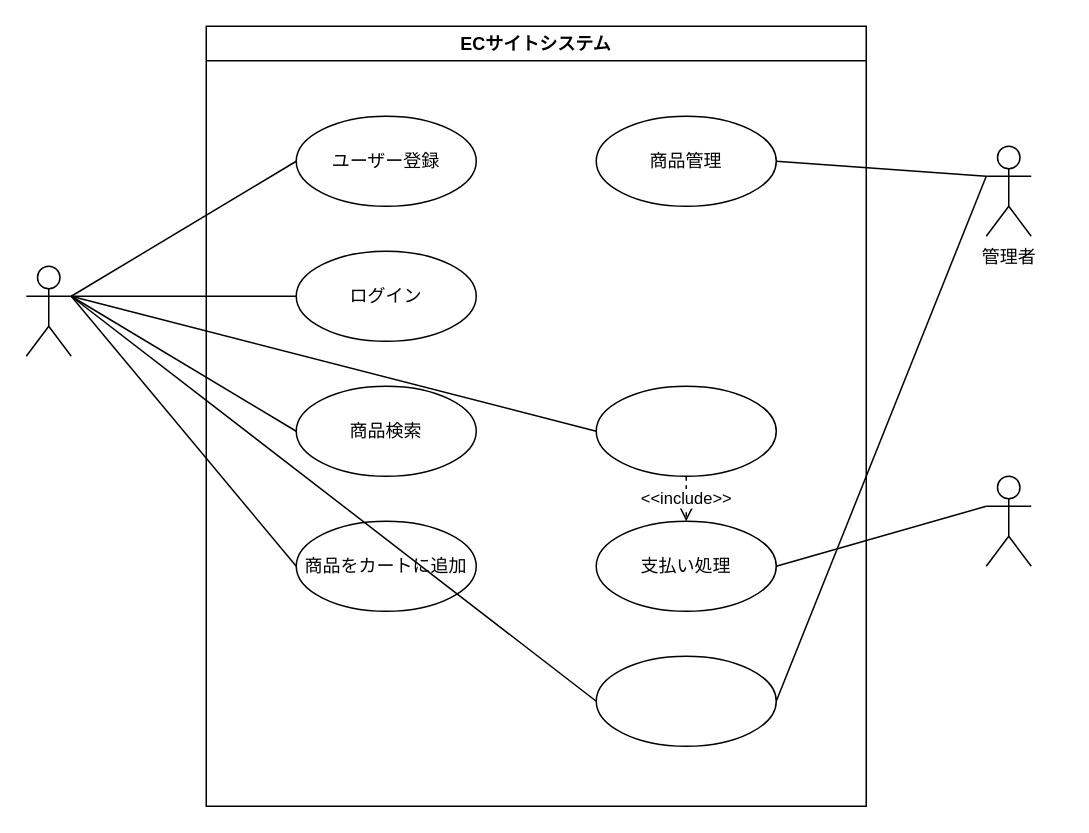
Image size: 1089x833. Some labels were removed from this diagram. Each missing label, with the centre of its shape:
決済システム: point 1008,520
注文履歴閲覧: point 685,700
注文確定: point 685,430
顧客: point 48,310
